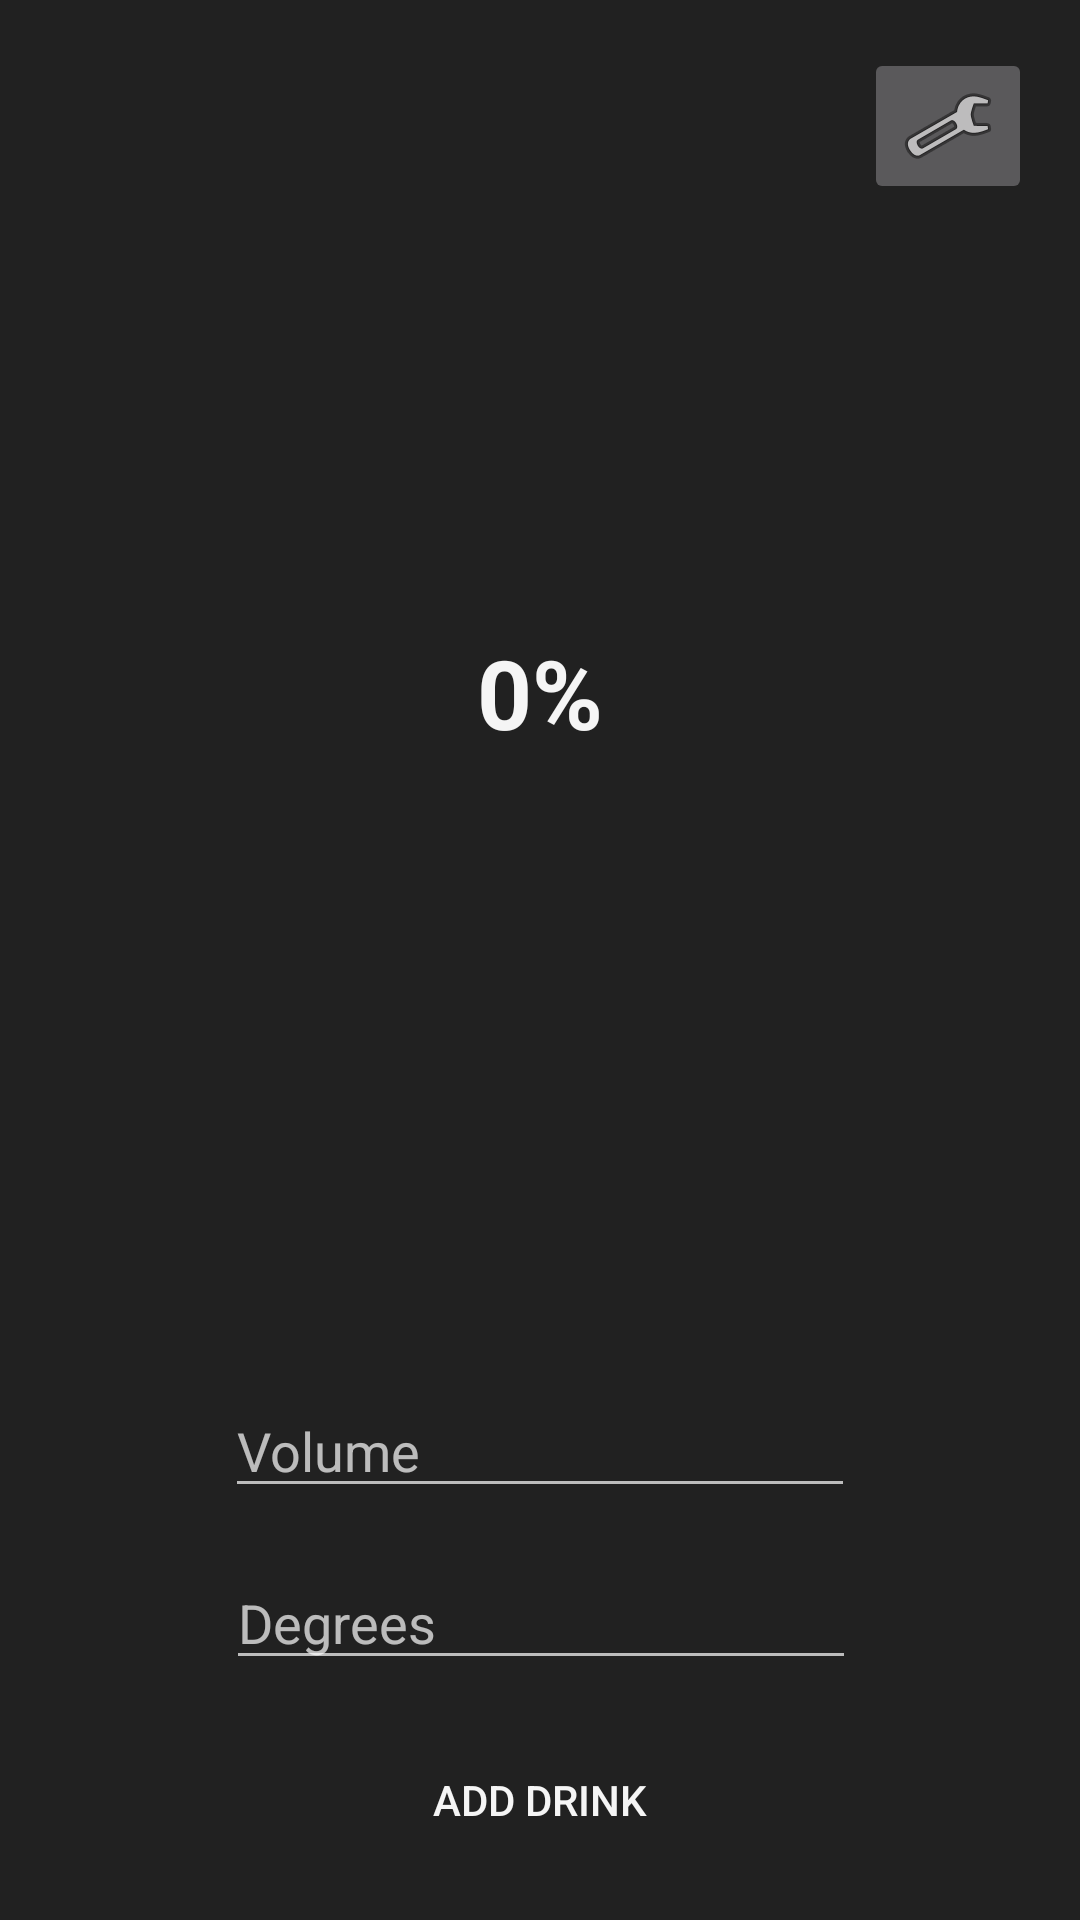

Named icons in this screenshot (1080x1920) and their centers, (x,y):
preferences: (948,126)
